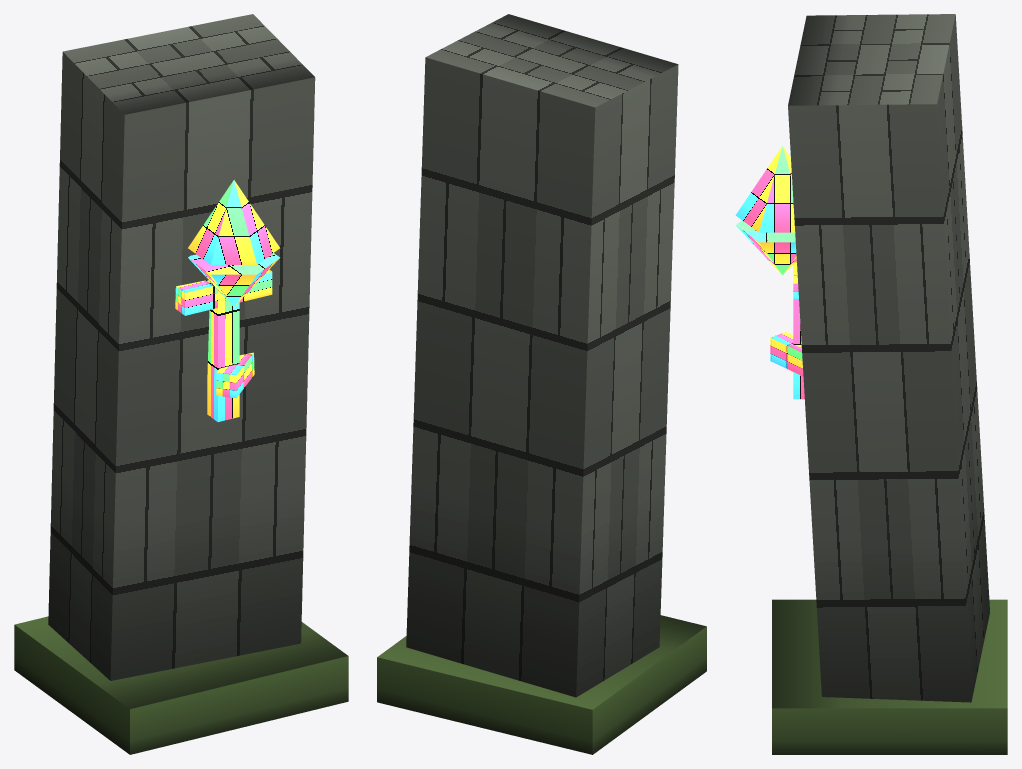
Rendered from standing_stone.glb.
The picture shows the model from 3 angles, left to right: view 1: azimuth 30°, elevation 25°; view 2: azimuth 150°, elevation 25°; view 3: azimuth 270°, elevation 25°; orthographic projection. The views are drawn at different scales.
Parts seen in each view (by area): view 1: standing_stone; view 2: standing_stone; view 3: standing_stone.
Boxes of the visible parts, x1,y1,x2,y2 form: standing_stone: [14, 14, 348, 754]; standing_stone: [377, 14, 706, 754]; standing_stone: [735, 14, 1007, 754].
Size of the model in its own units: 0.6 by 1.66 by 0.635.
1 material, 1 textured.
